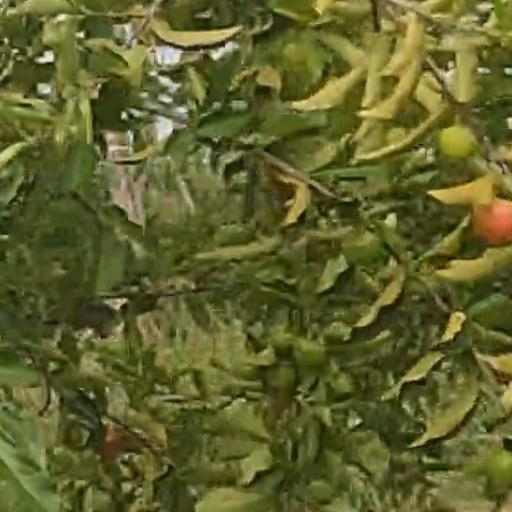acerola: (471, 200, 509, 247)
